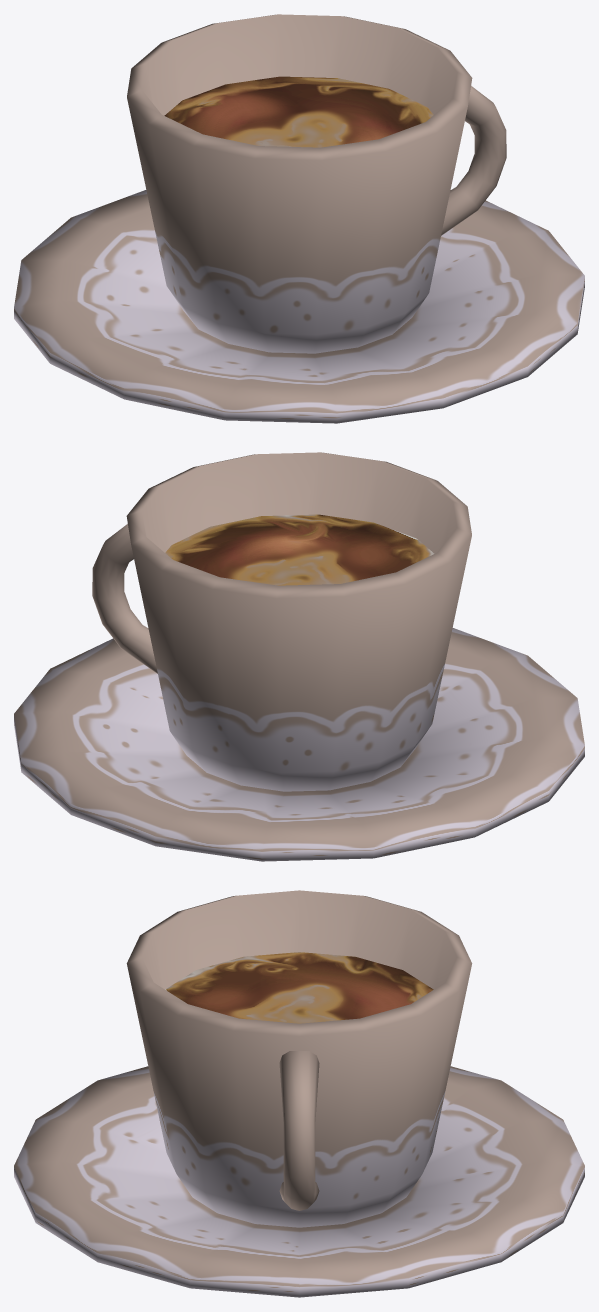
File: xícara cheia.fbx
The picture shows the model from 3 angles, top to bottom: view 1: azimuth 30°, elevation 25°; view 2: azimuth 150°, elevation 25°; view 3: azimuth 270°, elevation 25°; orthographic projection.
Parts seen in each view (by area): view 1: Cube; view 2: Cube; view 3: Cube.
Part boxes in pixels (x1,y1,x2,y2): Cube: (14, 14, 584, 423); Cube: (14, 452, 584, 861); Cube: (14, 890, 584, 1297).
Size of the model in its own units: 26.47 by 12.85 by 26.47.
